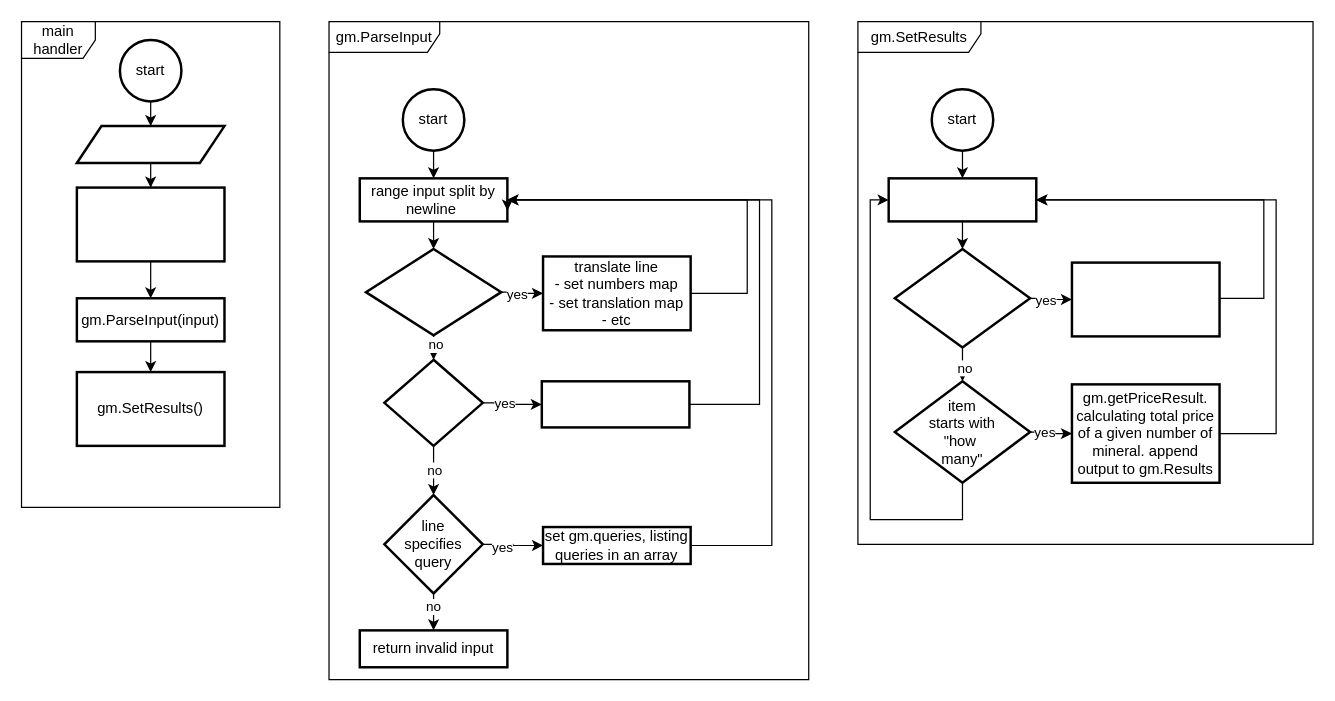
Some shapes in this 1335 by 701 pixel diagram are drawn without their labels. The shapes that lost their labels are listed below. From the top down, each one's box as (x1, y1, x2, y2) in pixels, then its label:
(75, 124, 225, 164): input
(887, 177, 1037, 222): range gm.queries
(75, 186, 225, 262): Instantiate GalaxyMerchant object as gm
(364, 247, 502, 336): line specifies translation
(893, 247, 1031, 348): item starts with "how much"
(1070, 261, 1220, 337): gm.getAmountResult. converting to decimals and append output to gm.Results
(383, 358, 483, 446): line specifies price
(540, 379, 690, 428): set gm.prices map to map mineral prices
